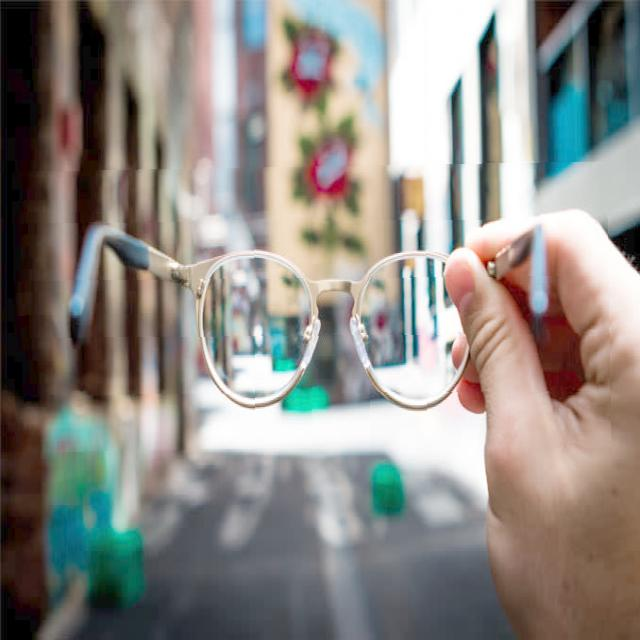glasses: (12, 163, 610, 450)
